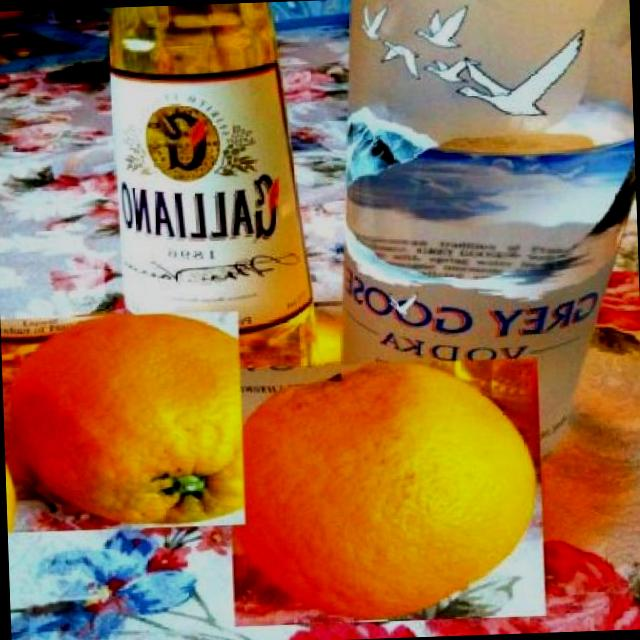Orange: (225, 357, 545, 627), (0, 310, 246, 532)
